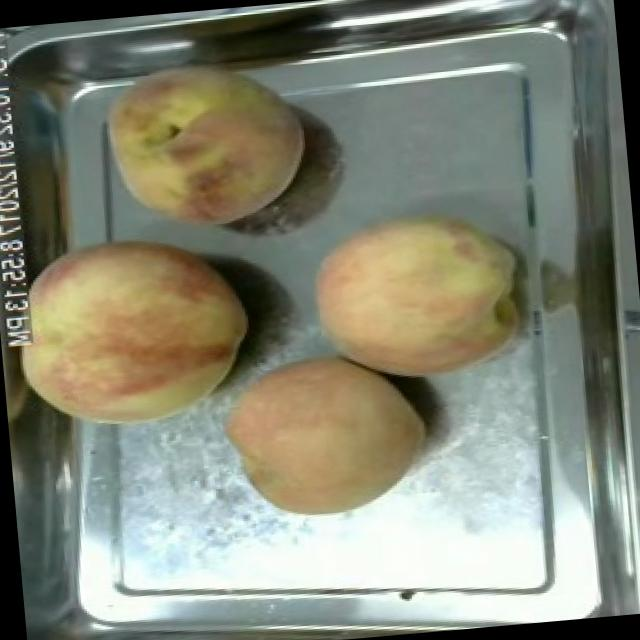Fruit: (0, 217, 266, 443), (296, 196, 534, 397), (88, 42, 319, 244), (208, 333, 440, 533)
